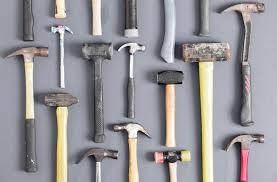hammer: (4, 44, 49, 174), (111, 120, 152, 181), (115, 40, 146, 119), (223, 131, 264, 181), (48, 23, 73, 89), (74, 146, 119, 181)
